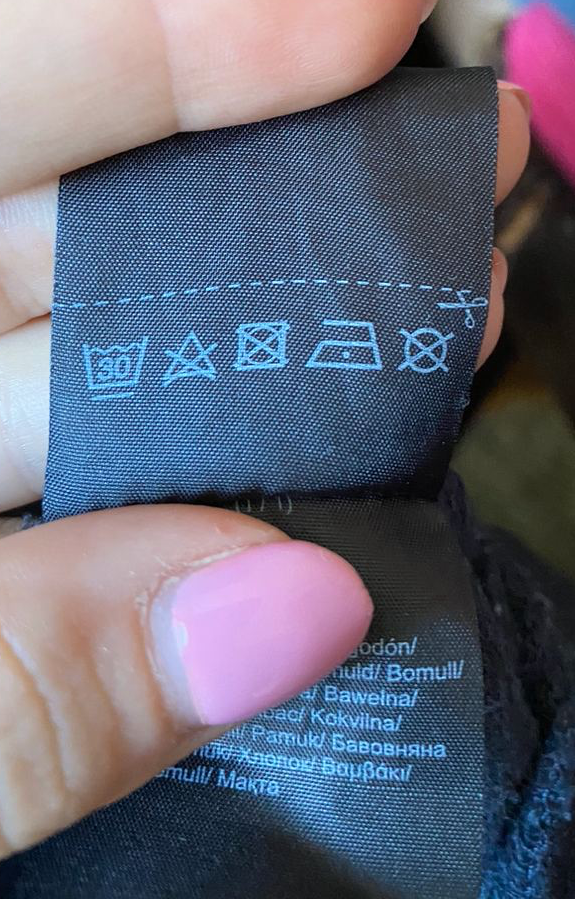do_not_bleach: (161, 325, 222, 387)
do_not_dry_clean: (396, 322, 463, 377)
do_not_tumble_drying: (231, 316, 292, 373)
ironing_at_low_temp: (303, 316, 387, 373)
wash_at_or_below_30_mild_fine_wash: (76, 330, 153, 404)
